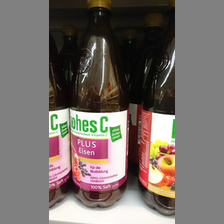juice: (69, 2, 131, 206), (138, 12, 175, 214)
